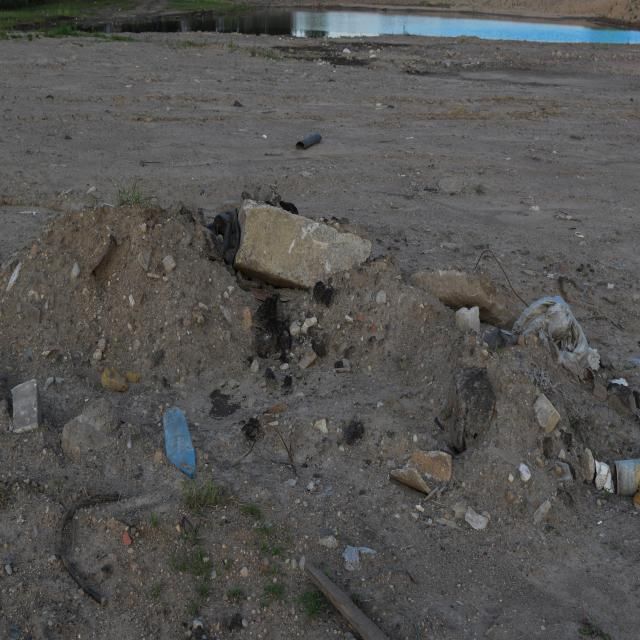entulho: (230, 195, 371, 302), (54, 482, 125, 608), (489, 286, 597, 366), (298, 555, 399, 640), (580, 443, 640, 500), (204, 204, 242, 267), (481, 330, 509, 352), (294, 133, 320, 150)
lixo domiciliar: (156, 401, 203, 477)
